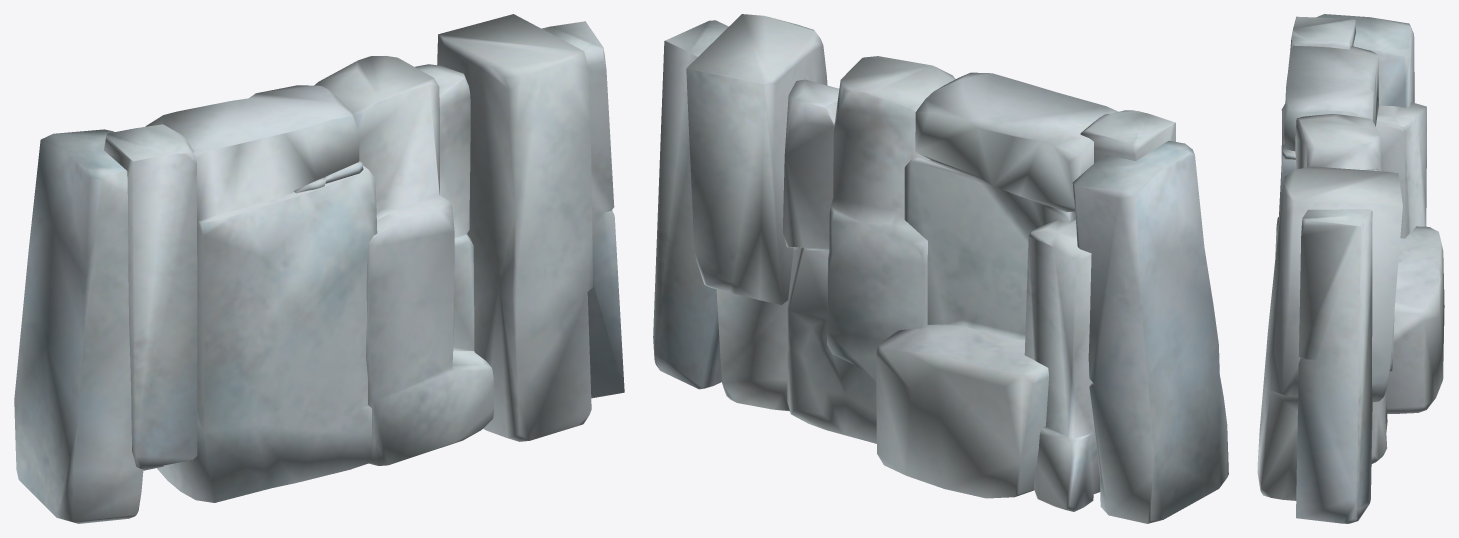
Rendered from P_CubicCliff13.obj.
The picture shows the model from 3 angles, left to right: view 1: azimuth 30°, elevation 25°; view 2: azimuth 150°, elevation 25°; view 3: azimuth 270°, elevation 25°; orthographic projection. The views are drawn at different scales.
Size of the model in its own units: 74.48 by 46.42 by 25.08.
